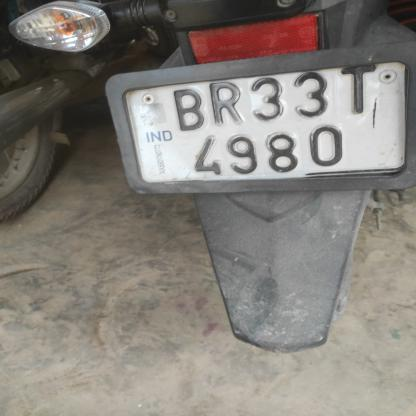Number_Plate_Detected: (108, 61, 416, 192)
